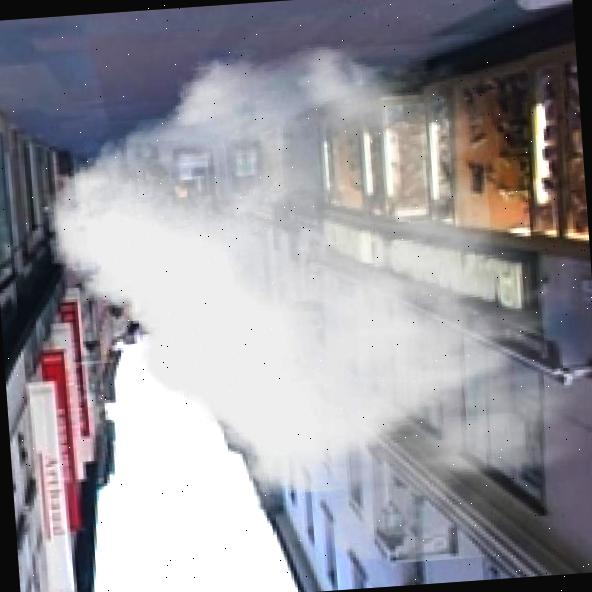smoke: (37, 26, 592, 585)
